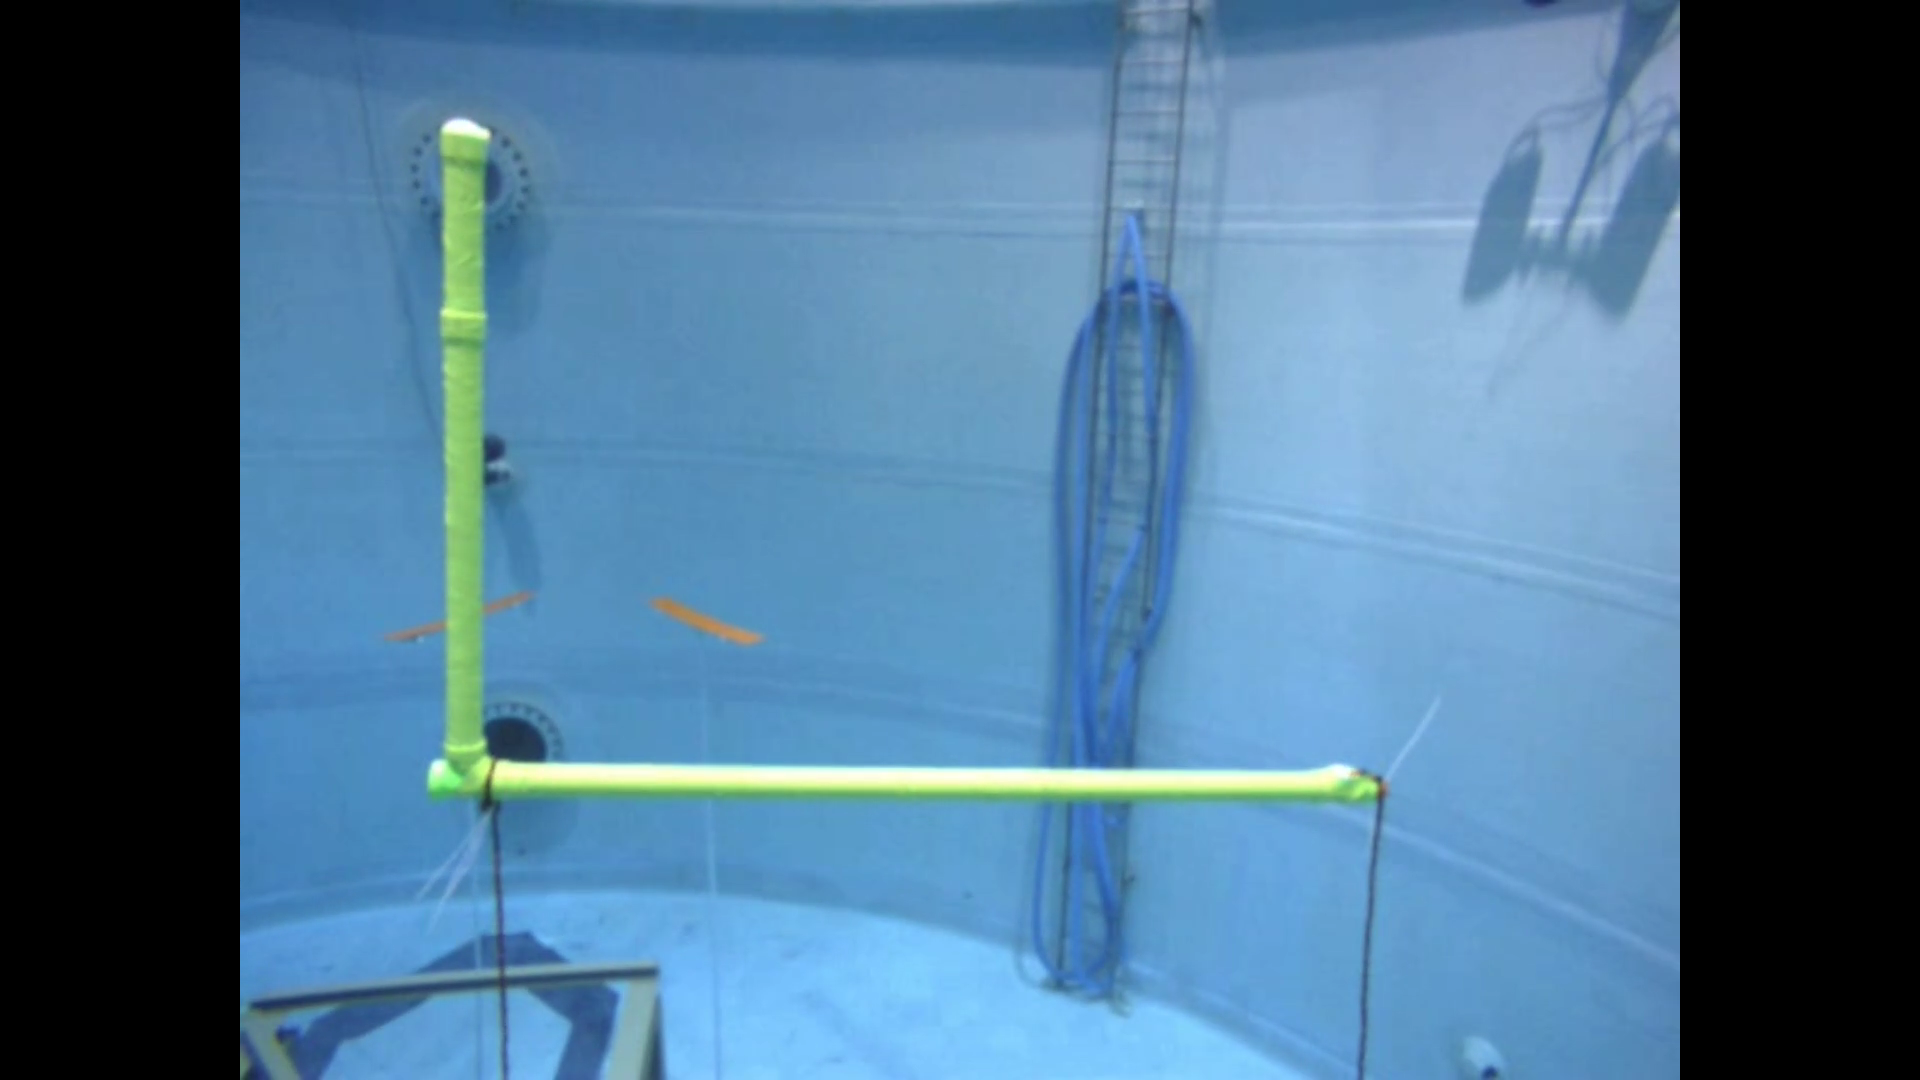gate: (422, 109, 1399, 812)
